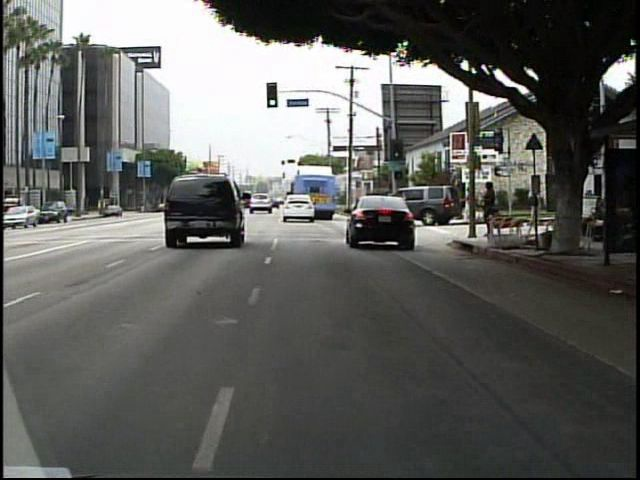person: (479, 177, 500, 242), (523, 181, 543, 237)
